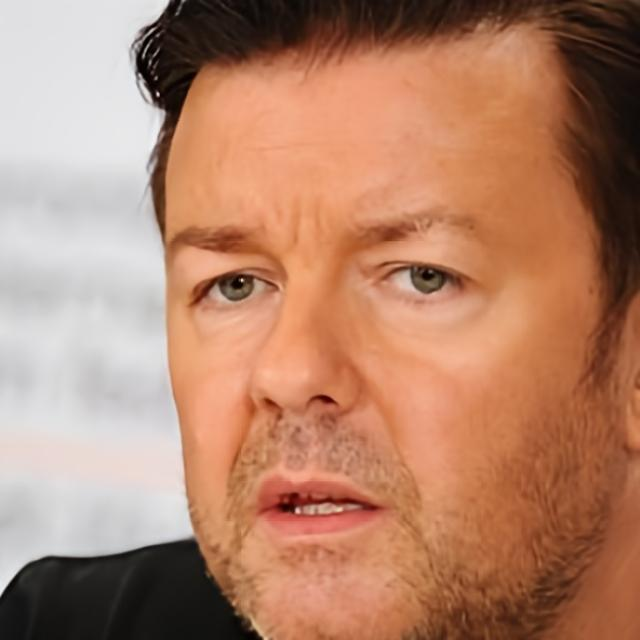disgust: (160, 1, 624, 640)
